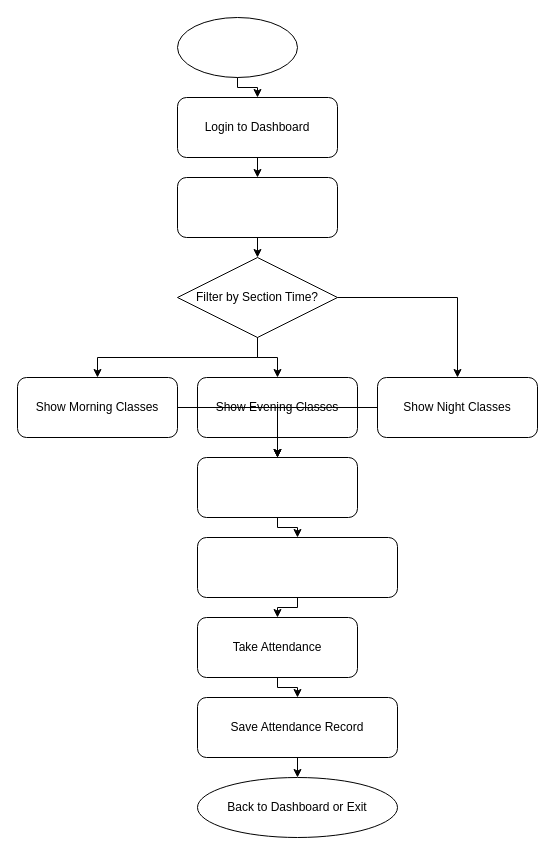
Image size: 555x855. Some labels were removed from this diagram. Here are the shapes that lost their labels. From the top down, the box of each, then its label:
(176, 16, 298, 78): Start
(176, 176, 338, 238): Display All Classes
(196, 456, 358, 518): Select a Class
(196, 536, 398, 598): Display Students in Class
